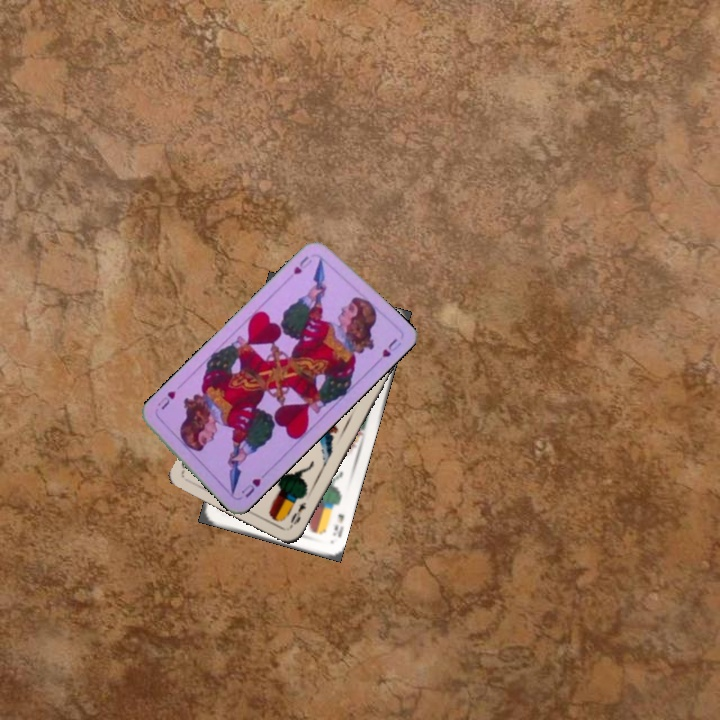EK: (329, 510, 347, 540)
EO: (285, 498, 309, 531)
HU: (237, 468, 269, 500), (289, 252, 315, 277)
